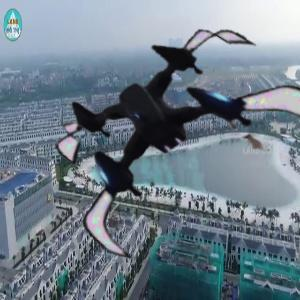drone: (36, 7, 300, 272)
